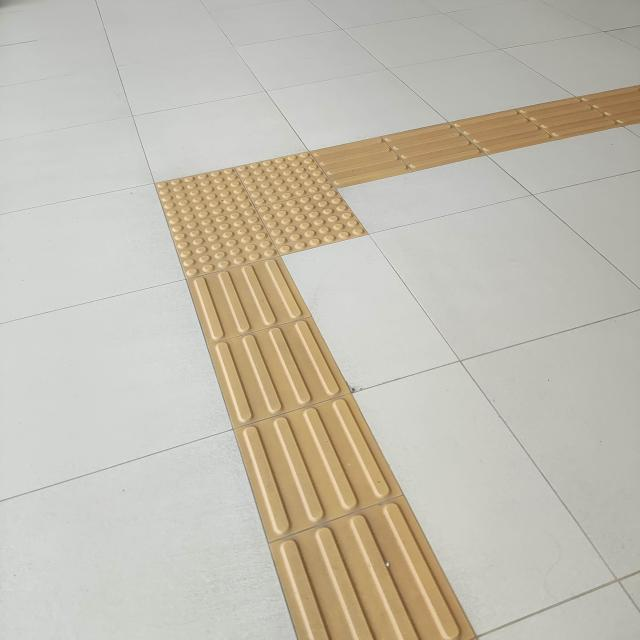kanan: (112, 113, 476, 307)
